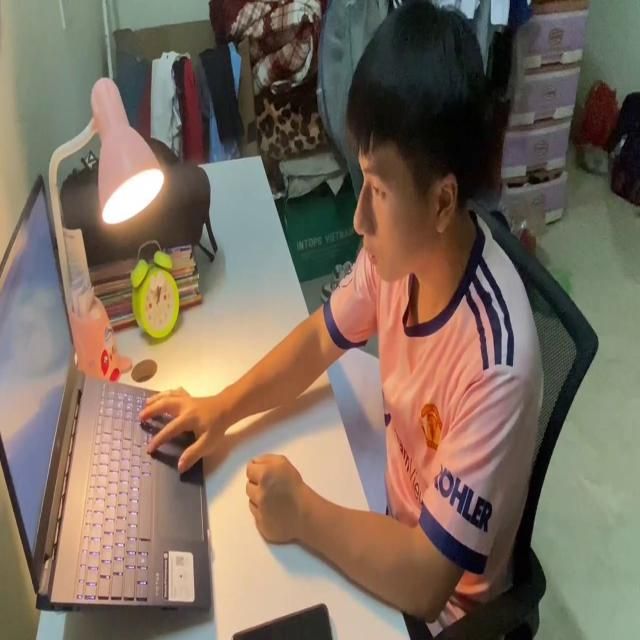book: (324, 344, 388, 528)
laptop: (0, 170, 215, 620)
phone: (232, 594, 335, 640)
student: (139, 0, 543, 624)
